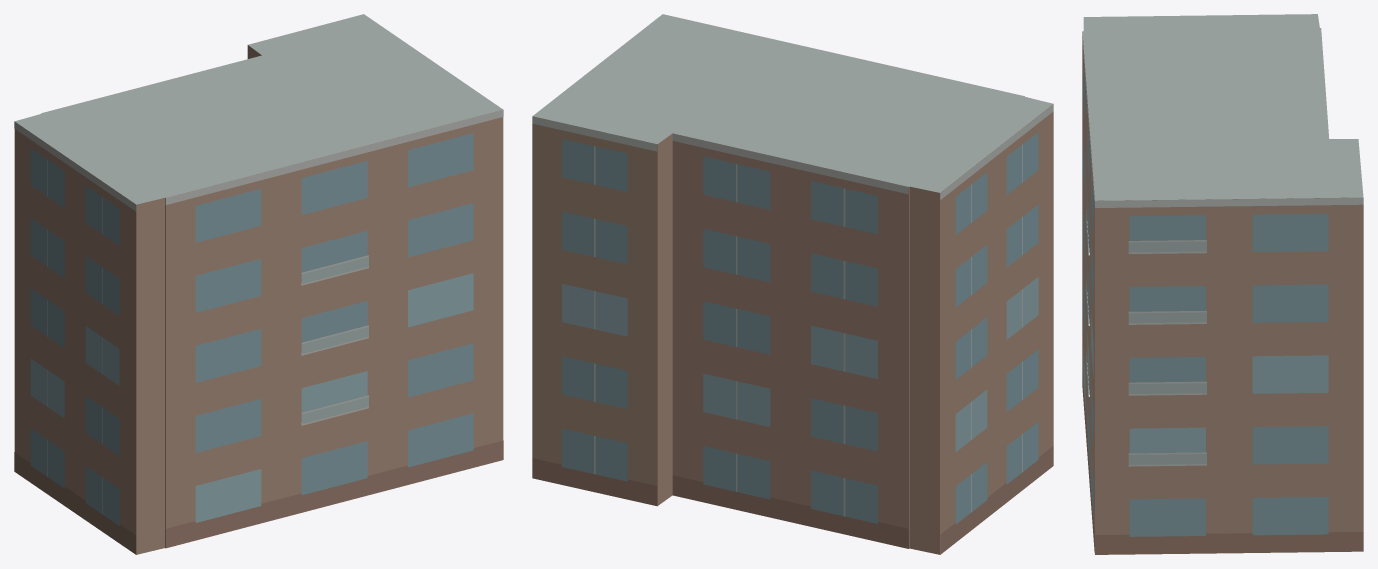
Rendered from survey-upis-32893396.glb.
3 renders of one model, left to right at view 1: azimuth 30°, elevation 25°; view 2: azimuth 150°, elevation 25°; view 3: azimuth 270°, elevation 25°, orthographic. The views are drawn at different scales.
Parts seen in each view (by area): view 1: survey-upis-32893396.tmp; view 2: survey-upis-32893396.tmp; view 3: survey-upis-32893396.tmp.
Part boxes in pixels (x1,y1,x2,y2): survey-upis-32893396.tmp: [14, 14, 503, 554]; survey-upis-32893396.tmp: [532, 14, 1053, 554]; survey-upis-32893396.tmp: [1082, 14, 1363, 554].
Size of the model in its own units: 13.48 by 11.9 by 8.57.
